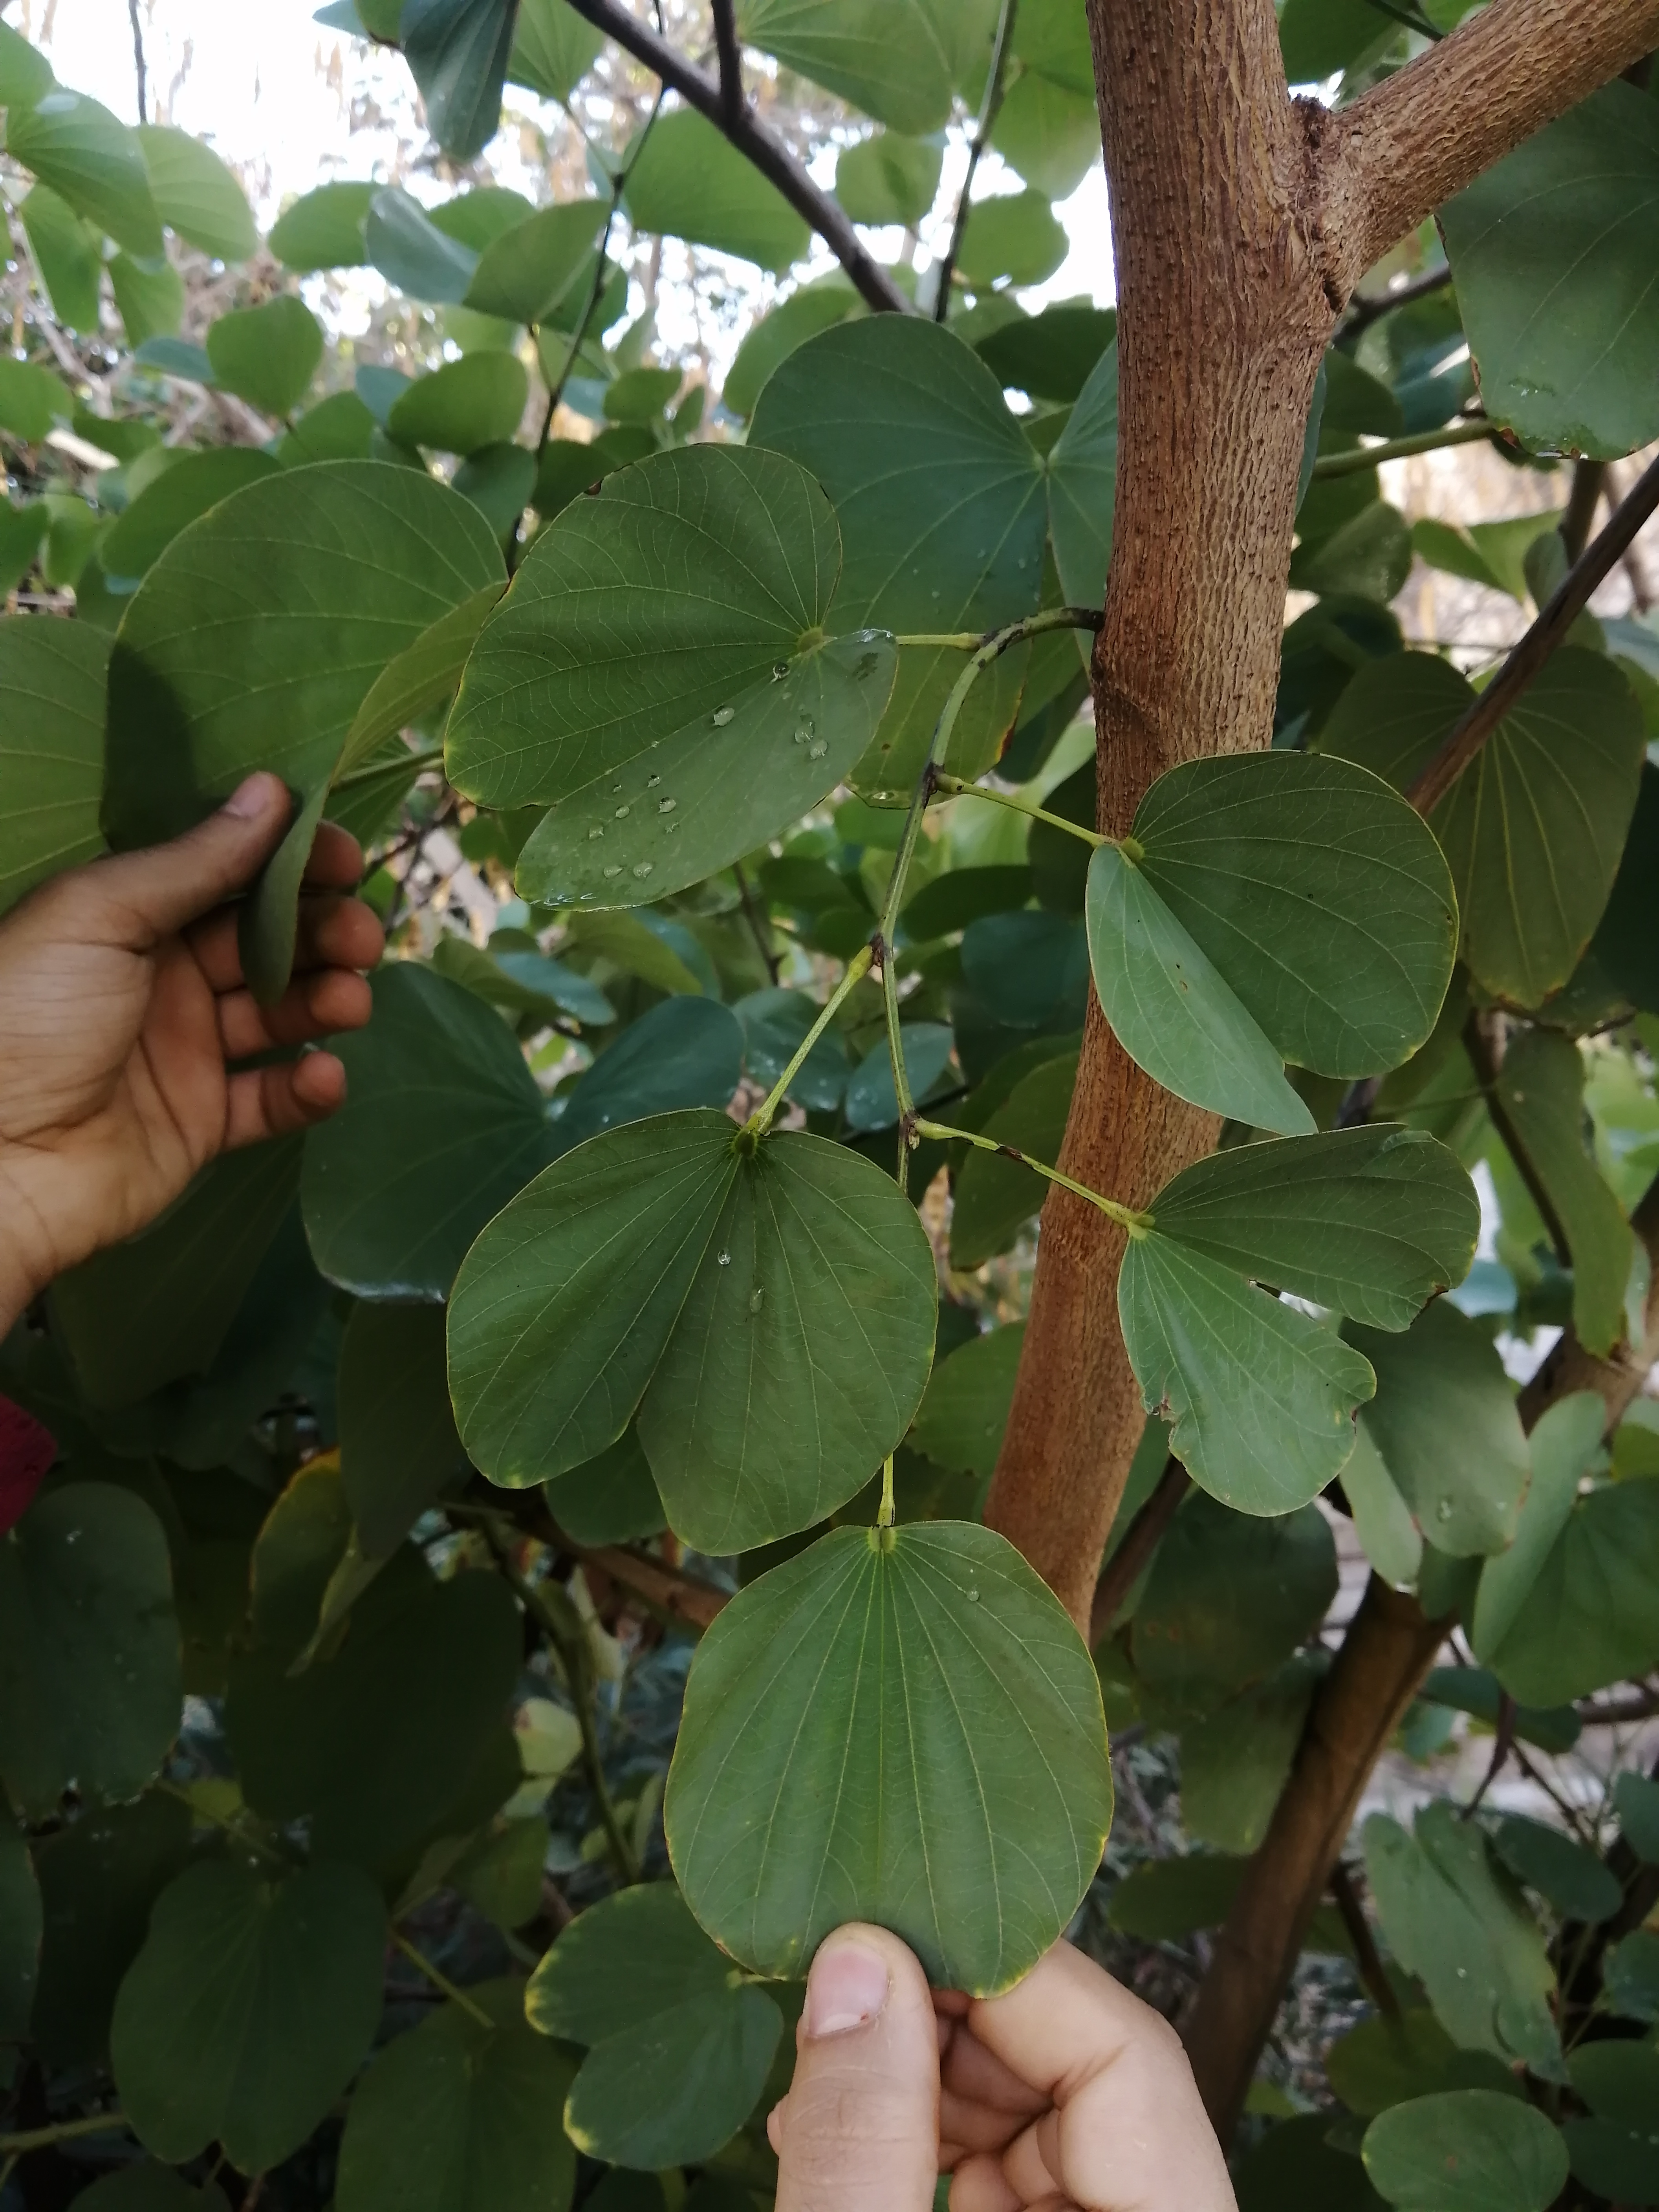healthy: (408, 1052, 953, 1550), (406, 463, 901, 939), (694, 1494, 1077, 1939), (1080, 718, 1492, 1125), (80, 1813, 441, 2198), (1361, 627, 1636, 979)
